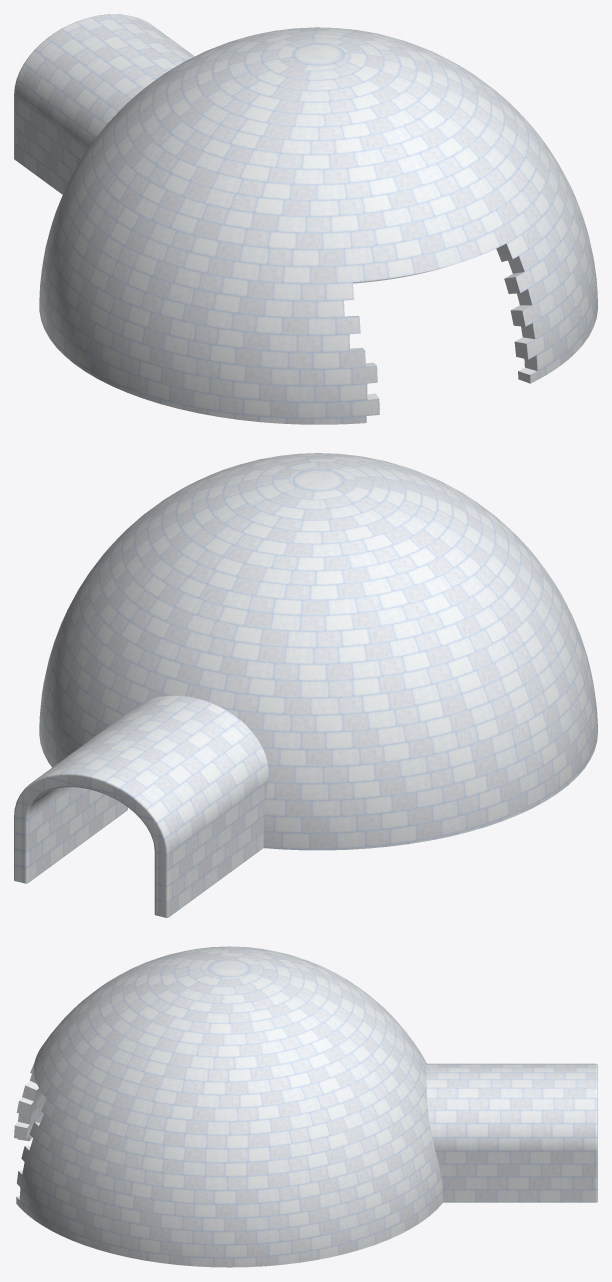
Rendered from SM_Igloo_Shell.glb.
3 views of the same model, one above another, from view 1: azimuth 30°, elevation 25°; view 2: azimuth 150°, elevation 25°; view 3: azimuth 270°, elevation 25° (orthographic). The views are drawn at different scales.
Parts seen in each view (by area): view 1: SM_Igloo_Shell; view 2: SM_Igloo_Shell; view 3: SM_Igloo_Shell.
Part boxes in pixels (<box>): SM_Igloo_Shell: <box>14,14,597,424</box>; SM_Igloo_Shell: <box>14,453,597,917</box>; SM_Igloo_Shell: <box>14,946,597,1267</box>.
Bounding box in the file's own units: 19.1 × 9.55 × 24.71.
1 material, 1 textured.
